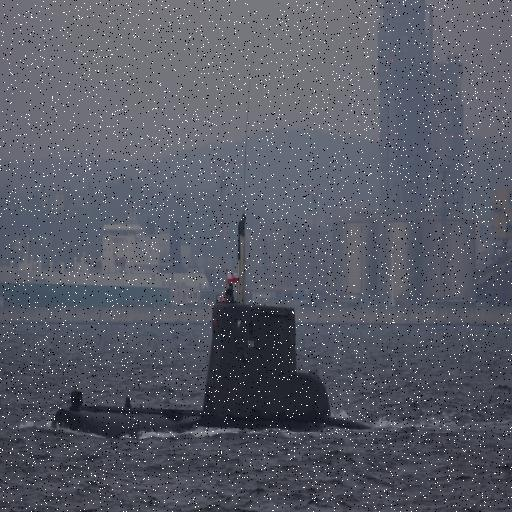submarine: (47, 309, 409, 444)
